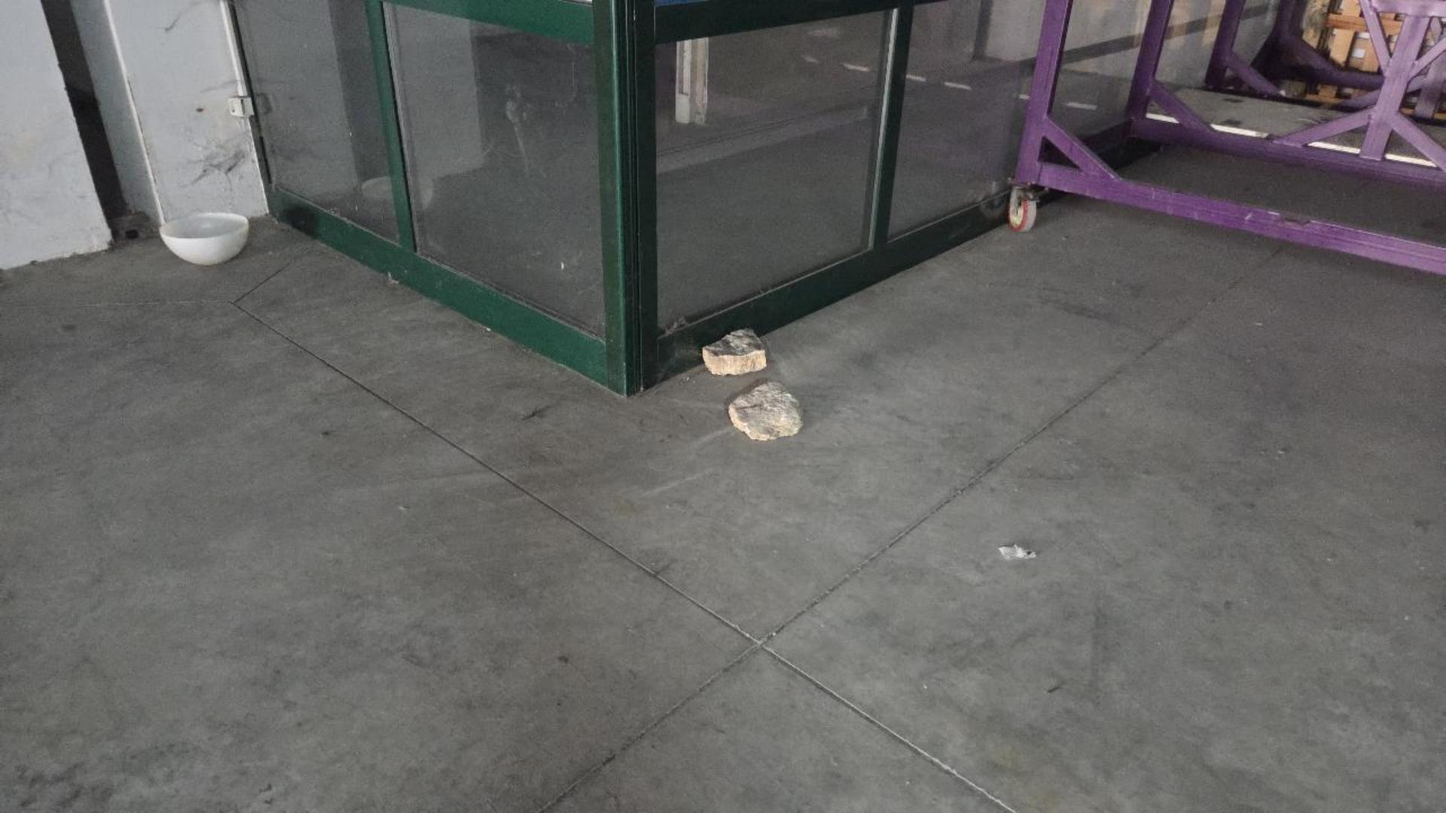rock: (728, 382, 802, 439), (702, 329, 766, 375)
